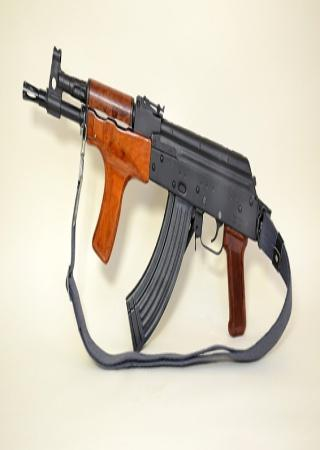weapon: (23, 46, 293, 371)
